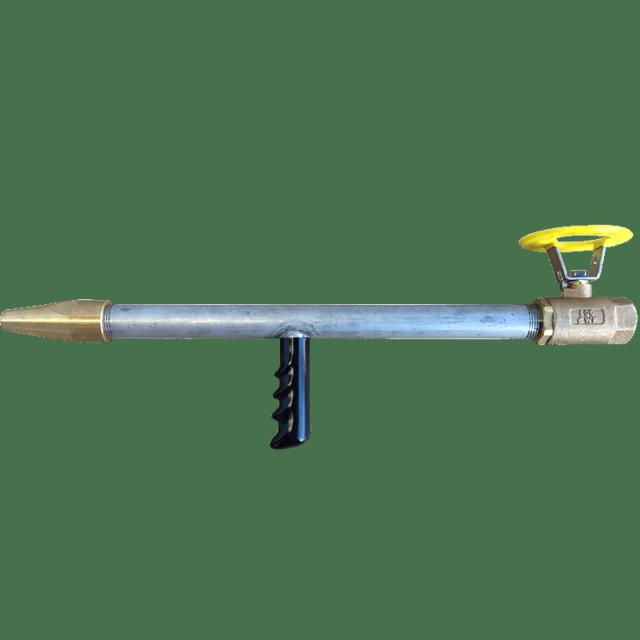Weapon: (1, 252, 637, 448)
